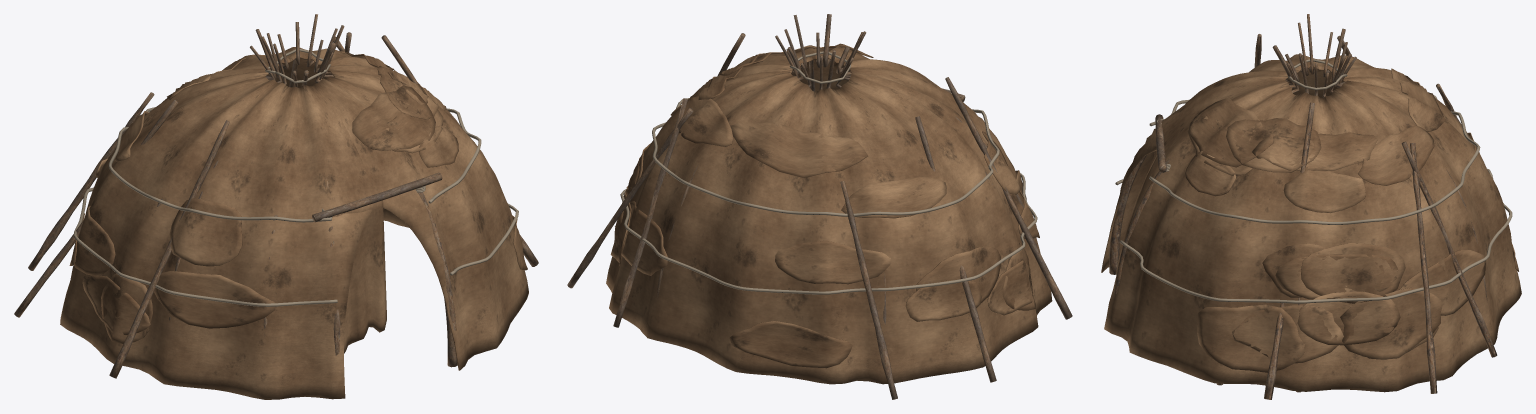
File: Hut 4000 v1.fbx
The picture shows the model from 3 angles, left to right: view 1: azimuth 30°, elevation 25°; view 2: azimuth 150°, elevation 25°; view 3: azimuth 270°, elevation 25°; orthographic projection. The views are drawn at different scales.
Visible parts, largest first — view 1: Hut 4000; view 2: Hut 4000; view 3: Hut 4000.
Boxes of the visible parts, box(x1,y1,x2,y2) form: Hut 4000: box(14, 14, 538, 399); Hut 4000: box(567, 14, 1072, 399); Hut 4000: box(1101, 14, 1521, 399).
Bounding box in the file's own units: 4.97 × 3 × 4.17.
